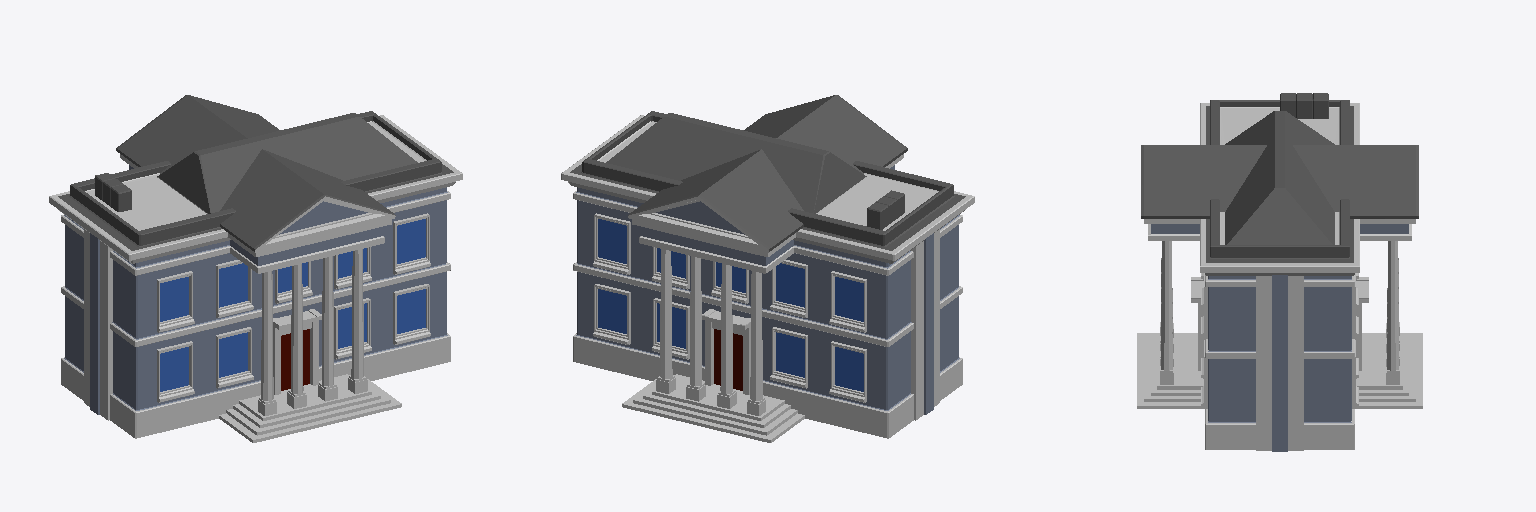
The model's file is CourtHouse.obj.
3 views of the same model, side by side, from view 1: azimuth 30°, elevation 25°; view 2: azimuth 150°, elevation 25°; view 3: azimuth 270°, elevation 25° (orthographic).
Visible parts, largest first — view 1: building_Cube, roof_Cube.006, Window_Cube.009, pillars_Cylinder, stairs_Cube.001, Cube_Cube.010, overhang_Cube.005, Cube.001_Cube.011, pillar_clamp_Cube.002, chimney_Cube.007; view 2: building_Cube, roof_Cube.006, Window_Cube.009, pillars_Cylinder, stairs_Cube.001, Cube_Cube.010, overhang_Cube.005, Cube.001_Cube.011, pillar_clamp_Cube.002, chimney_Cube.007; view 3: building_Cube, roof_Cube.006, Cube_Cube.010, stairs_Cube.001, pillars_Cylinder, overhang_Cube.005, Window_Cube.009, chimney_Cube.007, Cube.001_Cube.011, pillar_clamp_Cube.002.
Boxes of the visible parts, x1,y1,x2,y2 form: building_Cube: [49, 111, 462, 438]; roof_Cube.006: [116, 95, 395, 252]; Window_Cube.009: [157, 213, 430, 402]; pillars_Cylinder: [261, 249, 363, 400]; stairs_Cube.001: [219, 374, 401, 442]; Cube_Cube.010: [84, 229, 112, 420]; overhang_Cube.005: [120, 154, 391, 273]; Cube.001_Cube.011: [273, 309, 321, 394]; pillar_clamp_Cube.002: [258, 375, 367, 415]; chimney_Cube.007: [95, 173, 131, 211]; building_Cube: [561, 111, 974, 438]; roof_Cube.006: [628, 95, 907, 252]; Window_Cube.009: [593, 213, 866, 402]; pillars_Cylinder: [660, 249, 762, 400]; stairs_Cube.001: [622, 374, 804, 442]; Cube_Cube.010: [911, 229, 939, 420]; overhang_Cube.005: [632, 154, 903, 273]; Cube.001_Cube.011: [702, 309, 750, 394]; pillar_clamp_Cube.002: [656, 375, 765, 415]; chimney_Cube.007: [867, 190, 904, 229]; building_Cube: [1200, 100, 1359, 449]; roof_Cube.006: [1141, 145, 1418, 218]; Cube_Cube.010: [1256, 275, 1303, 451]; stairs_Cube.001: [1137, 333, 1422, 408]; pillars_Cylinder: [1161, 241, 1398, 370]; overhang_Cube.005: [1144, 219, 1415, 240]; Window_Cube.009: [1201, 273, 1358, 408]; chimney_Cube.007: [1280, 93, 1328, 118]; Cube.001_Cube.011: [1191, 277, 1368, 370]; pillar_clamp_Cube.002: [1160, 322, 1399, 384].
Bounding box in the file's own units: 5.38 × 3.6 × 4.